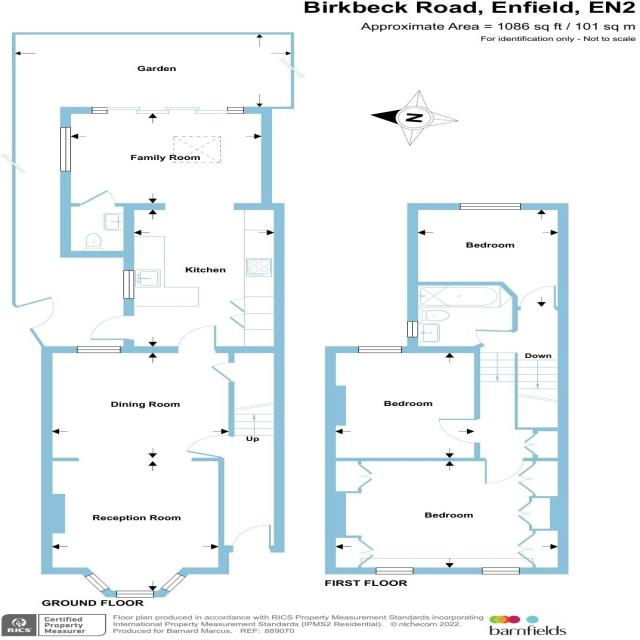DOOR: (481, 457, 526, 485), (185, 435, 235, 459), (176, 325, 218, 353), (231, 524, 272, 552), (90, 315, 134, 341), (437, 418, 480, 444), (519, 285, 557, 310), (78, 189, 117, 207), (475, 329, 514, 346), (209, 362, 235, 383)
ROOM: (60, 107, 285, 353), (41, 325, 235, 598), (324, 457, 569, 575), (325, 346, 481, 461), (407, 203, 569, 310)
WINDOW: (83, 572, 111, 593), (59, 127, 72, 172), (160, 572, 187, 593), (458, 202, 522, 210), (123, 270, 135, 299), (480, 567, 521, 575), (115, 590, 155, 598), (358, 346, 403, 353), (76, 346, 121, 353), (375, 567, 414, 575), (407, 321, 419, 338), (227, 106, 245, 114), (91, 106, 108, 114)
